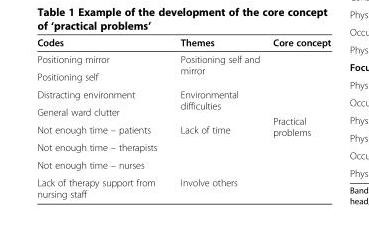table: (36, 36, 330, 199)
table column: (36, 36, 168, 199), (168, 36, 265, 199), (265, 36, 330, 199)
table column header: (36, 36, 330, 50)
table row: (36, 173, 330, 199), (36, 67, 330, 85), (36, 102, 330, 120), (36, 120, 330, 138), (36, 155, 330, 173), (36, 50, 330, 67), (36, 85, 330, 102), (36, 138, 330, 155), (36, 36, 330, 50)
table spanning cell: (265, 50, 330, 199), (168, 120, 265, 173), (168, 50, 265, 85), (168, 85, 265, 120)
